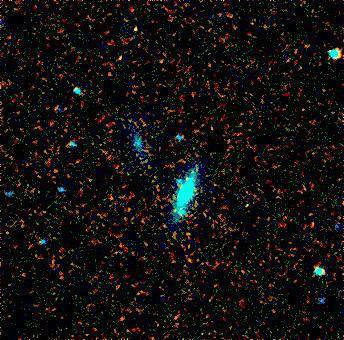star: (175, 163, 205, 193)
